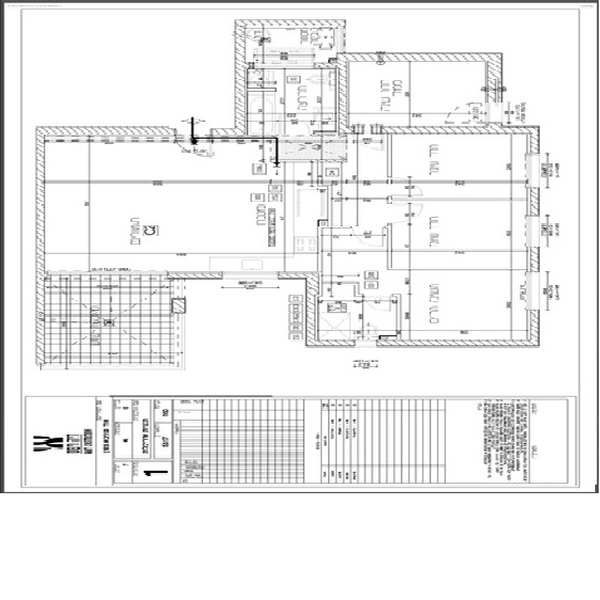wall: (37, 127, 177, 142), (336, 52, 504, 64), (232, 22, 248, 134), (380, 126, 546, 136), (35, 131, 42, 361), (236, 18, 347, 31), (379, 340, 536, 348), (305, 273, 320, 344), (334, 53, 347, 131)
